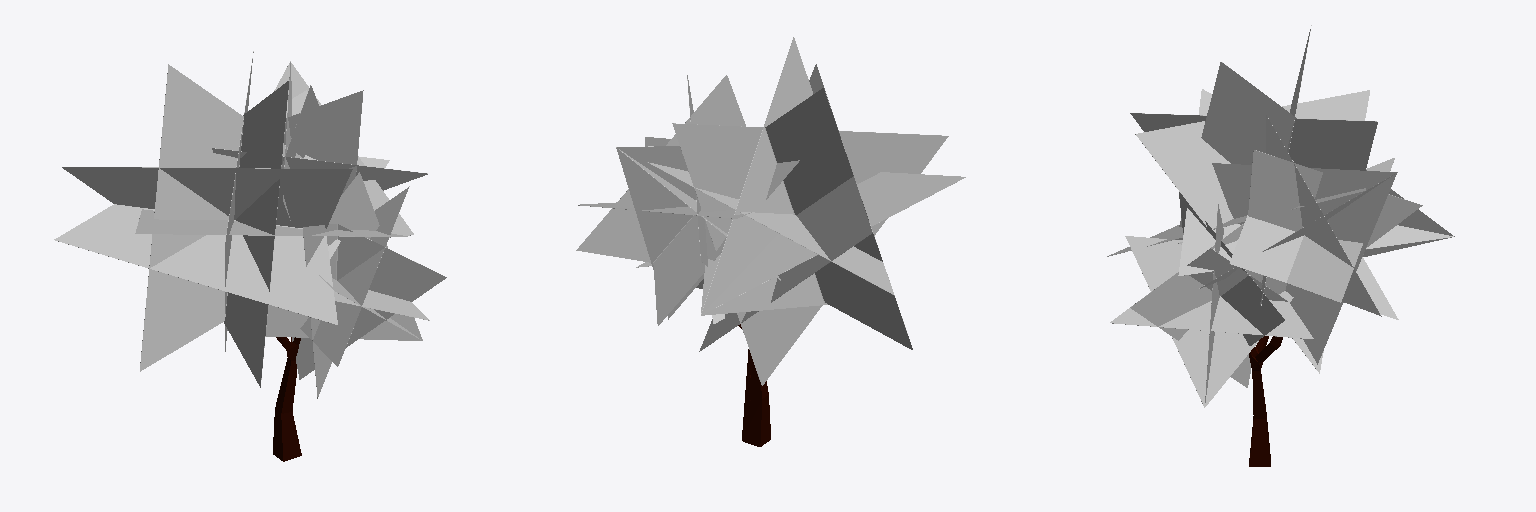
File: RhodeTreeSmall.obj
3 views of the same model, side by side, from view 1: azimuth 30°, elevation 25°; view 2: azimuth 150°, elevation 25°; view 3: azimuth 270°, elevation 25° (orthographic).
Parts seen in each view (by area): view 1: SmallTree.002_Cube.022; view 2: SmallTree.002_Cube.022; view 3: SmallTree.002_Cube.022.
Boxes of the visible parts, x1=… form: SmallTree.002_Cube.022: x1=54, y1=51, x2=446, y2=461; SmallTree.002_Cube.022: x1=576, y1=37, x2=965, y2=446; SmallTree.002_Cube.022: x1=1107, y1=25, x2=1454, y2=466.
Size of the model in its own units: 25.68 by 29.51 by 23.69.